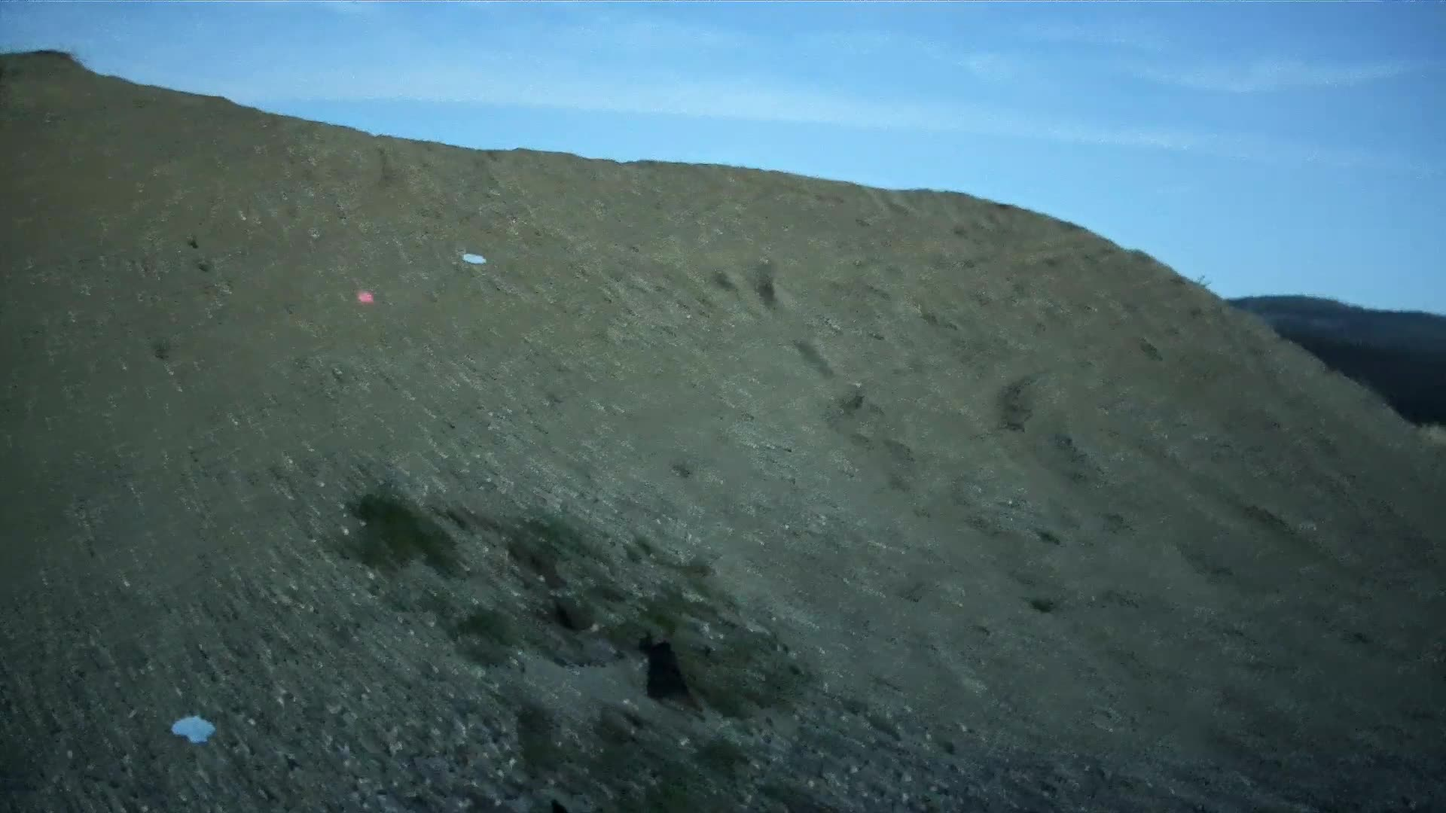Target: (170, 713, 220, 746)
